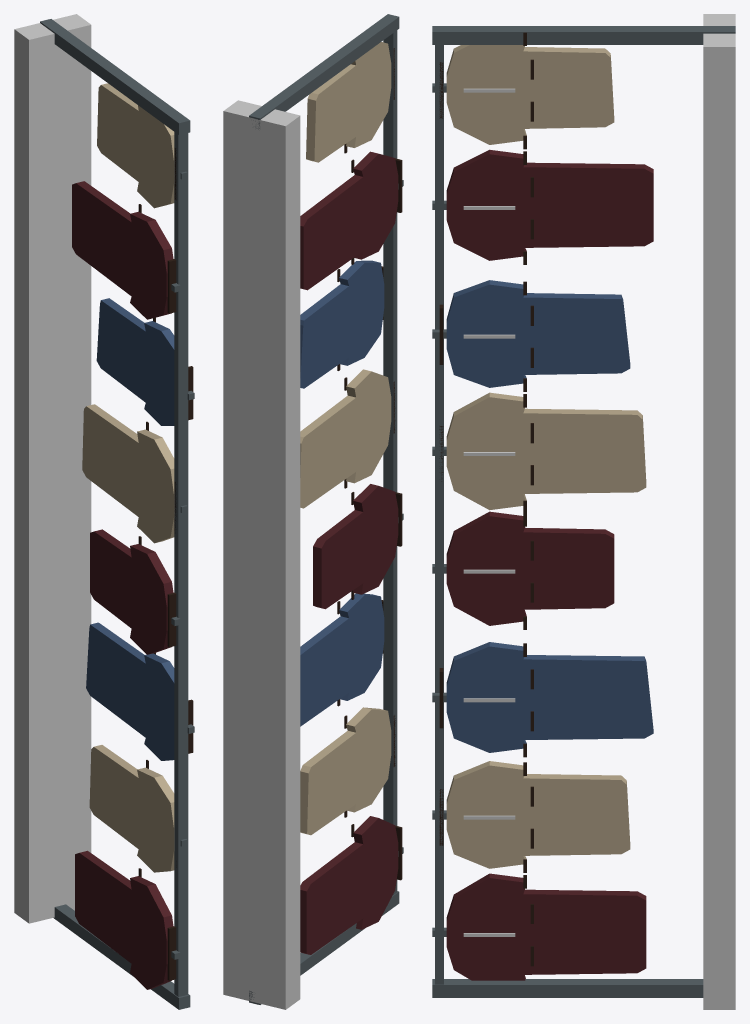
Rendered from SM_BSW_StockWing_Long_B.obj.
The picture shows the model from 3 angles, left to right: view 1: azimuth 30°, elevation 25°; view 2: azimuth 150°, elevation 25°; view 3: azimuth 270°, elevation 25°; orthographic projection. The views are drawn at different scales.
Visible parts, largest first — view 1: SM_BSW_StockWing_Long_B; view 2: SM_BSW_StockWing_Long_B; view 3: SM_BSW_StockWing_Long_B.
Boxes of the visible parts, x1=… form: SM_BSW_StockWing_Long_B: x1=14, y1=14, x2=194, y2=1009; SM_BSW_StockWing_Long_B: x1=223, y1=14, x2=403, y2=1009; SM_BSW_StockWing_Long_B: x1=432, y1=14, x2=735, y2=1009.
Size of the model in its own units: 44 by 598 by 170.
